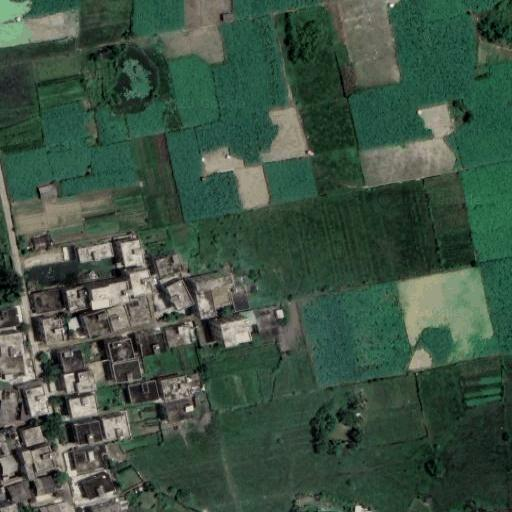building: (90, 281, 132, 309), (20, 443, 55, 475), (128, 292, 158, 324), (219, 318, 252, 347), (81, 472, 114, 501), (76, 241, 114, 265), (165, 280, 193, 312), (84, 310, 113, 340), (164, 321, 195, 349), (254, 306, 280, 339), (32, 289, 64, 314), (105, 303, 132, 332), (136, 332, 167, 357), (111, 360, 143, 384), (161, 376, 190, 402), (127, 381, 158, 405), (102, 415, 130, 441), (154, 253, 183, 278), (69, 394, 99, 418), (0, 354, 26, 381), (27, 386, 49, 417), (121, 239, 146, 266), (194, 290, 216, 320), (76, 420, 102, 445), (196, 275, 233, 292), (129, 270, 153, 296), (0, 333, 26, 357), (75, 448, 102, 471), (43, 318, 65, 345), (110, 338, 134, 362), (230, 286, 251, 312), (66, 287, 89, 310), (21, 426, 44, 449), (60, 349, 84, 371), (31, 181, 56, 201), (8, 481, 31, 502), (77, 368, 96, 393), (210, 286, 231, 308), (29, 232, 52, 252), (0, 453, 20, 475), (32, 475, 52, 496), (0, 307, 19, 328), (63, 372, 76, 393), (94, 504, 121, 512), (1, 389, 18, 401), (0, 502, 17, 512), (40, 504, 58, 512), (192, 374, 201, 389), (68, 319, 78, 329), (4, 373, 15, 381), (277, 310, 283, 319), (185, 406, 193, 411)
